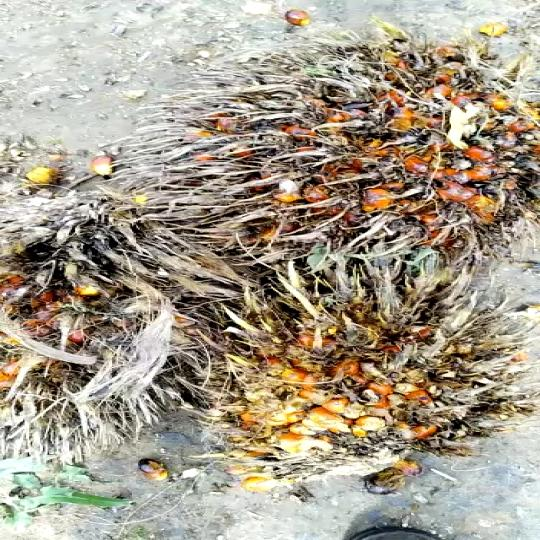terlalu masak: (132, 237, 535, 490), (144, 39, 540, 252)
